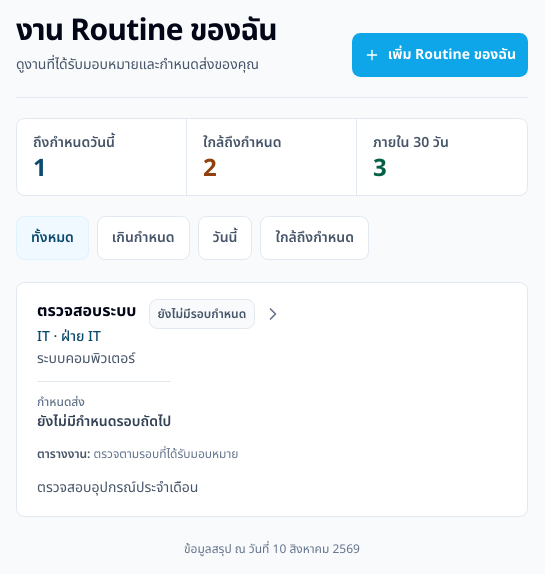
LiffRoutineApp › changes the timing filter and requests only the selected status
Expected: the heading "ตรวจสอบระบบ" is shown, [37,299,136,323]
Click the button "วันนี้" at (225, 238), box [198,216,252,260]
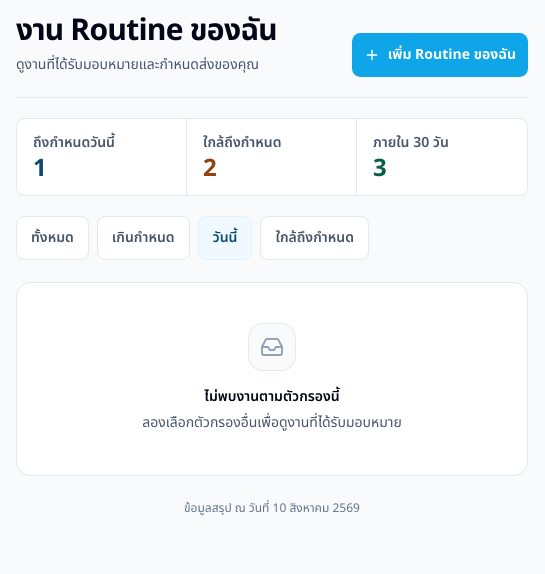
Now the heading "ไม่พบงานตามตัวกรองนี้" is shown, box [204,387,340,407]
